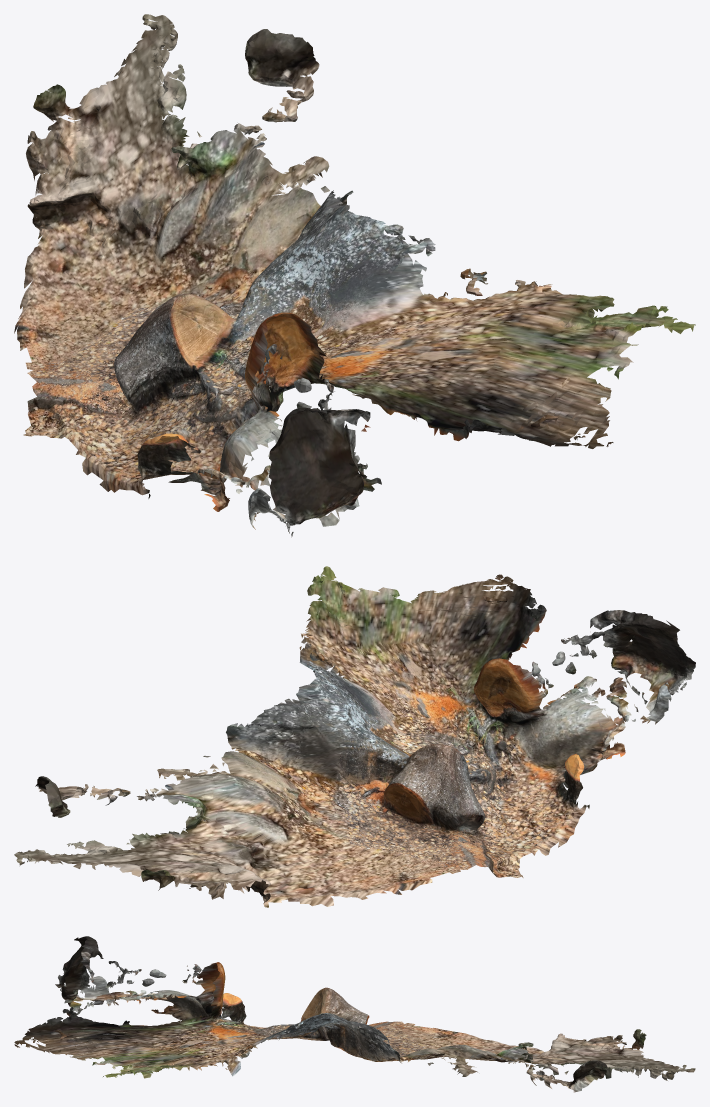
File: metascan_20230505-1145.obj
3 views of the same model, one above another, from view 1: azimuth 30°, elevation 25°; view 2: azimuth 150°, elevation 25°; view 3: azimuth 270°, elevation 25° (orthographic). The views are drawn at different scales.
Parts seen in each view (by area): view 1: mesh_0; view 2: mesh_0; view 3: mesh_0.
Part boxes in pixels (left/top/right/bottom): mesh_0: left=14, top=14, right=695, bottom=537; mesh_0: left=14, top=566, right=695, bottom=907; mesh_0: left=14, top=936, right=695, bottom=1092.
Bounding box in the file's own units: 3.57 × 1.32 × 7.3.
1 material, 1 textured.
